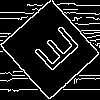E: (25, 25, 82, 80)
